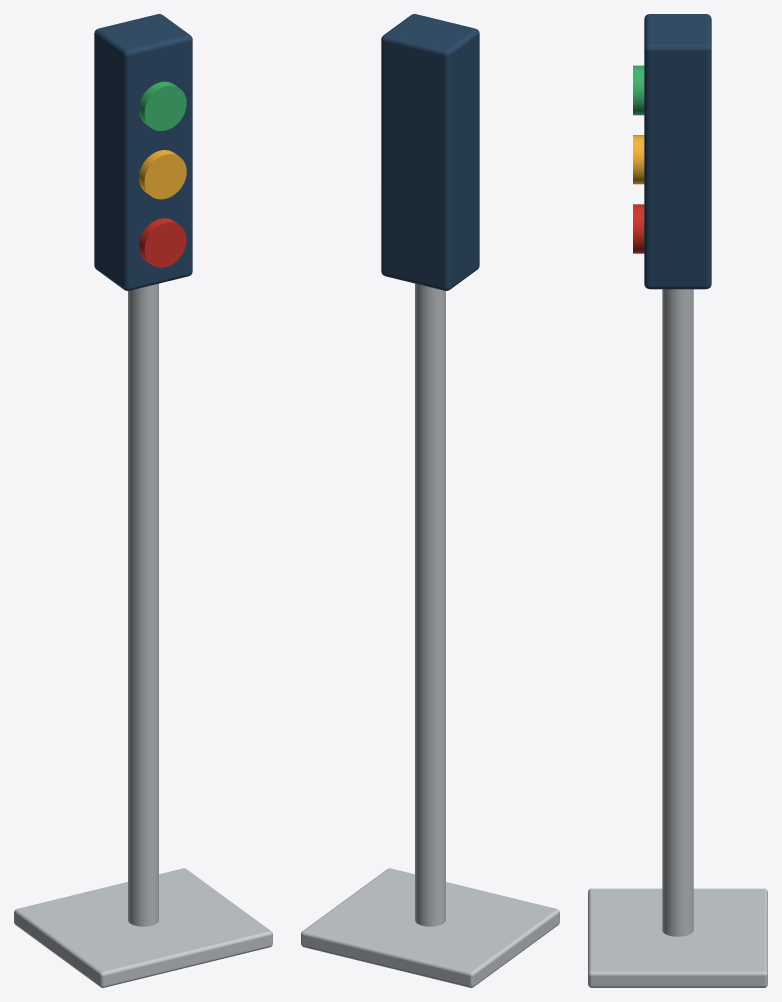
Rendered from rowing-boathouse-and-regatta-course-start-signal-light-840836d6__32162.glb.
The picture shows the model from 3 angles, left to right: view 1: azimuth 30°, elevation 25°; view 2: azimuth 150°, elevation 25°; view 3: azimuth 270°, elevation 25°; orthographic projection.
Parts seen in each view (by area): view 1: start-signal-light; view 2: start-signal-light; view 3: start-signal-light.
Boxes of the visible parts, box(x1,y1,x2,y2) form: start-signal-light: box(14, 14, 272, 987); start-signal-light: box(301, 14, 559, 987); start-signal-light: box(588, 14, 767, 987).
Size of the model in its own units: 0.45 by 2.25 by 0.4.
